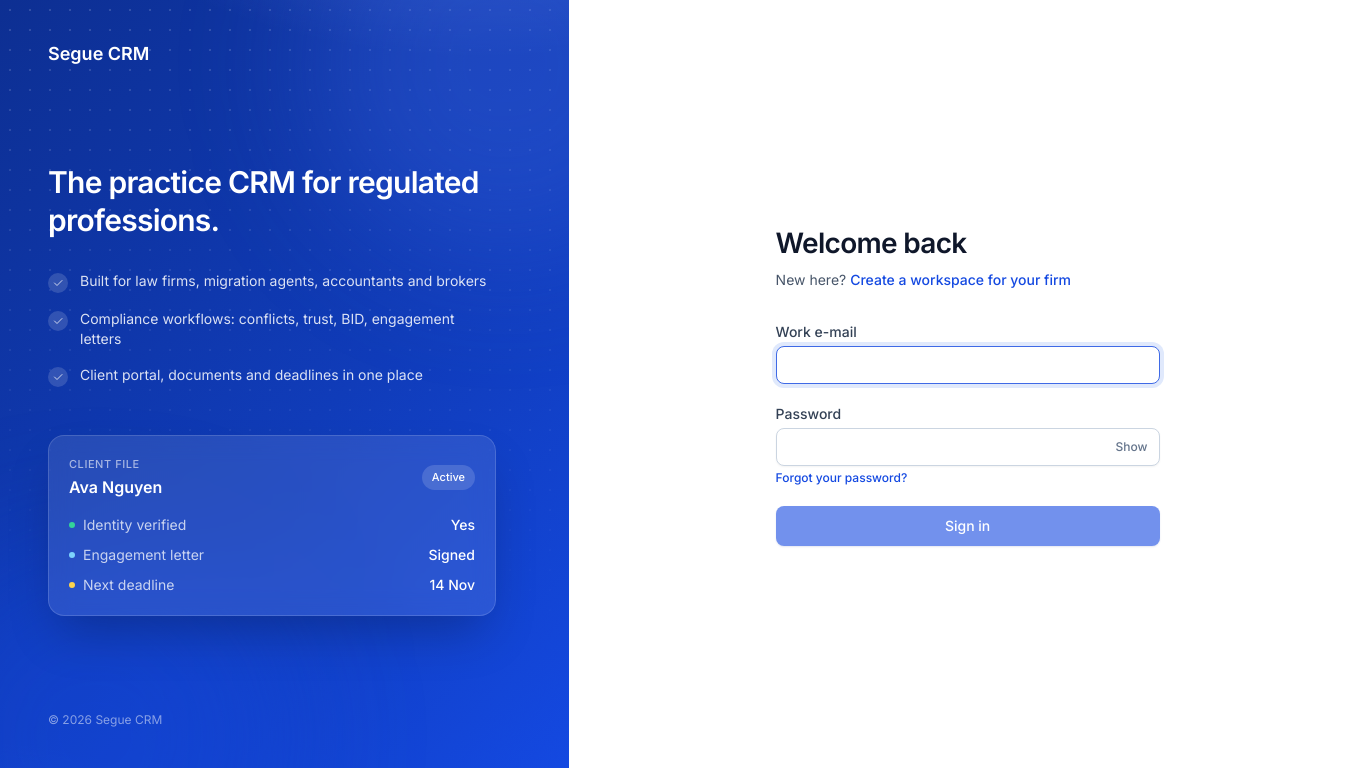
login flow › shows the server error for bad credentials
This screenshot has width=1366, height=768.
Type "admin@demo.example.com" into the field labelled "Work e-mail".
click(968, 365); type("admin@demo.example.com")  # box [776,346,1160,384]
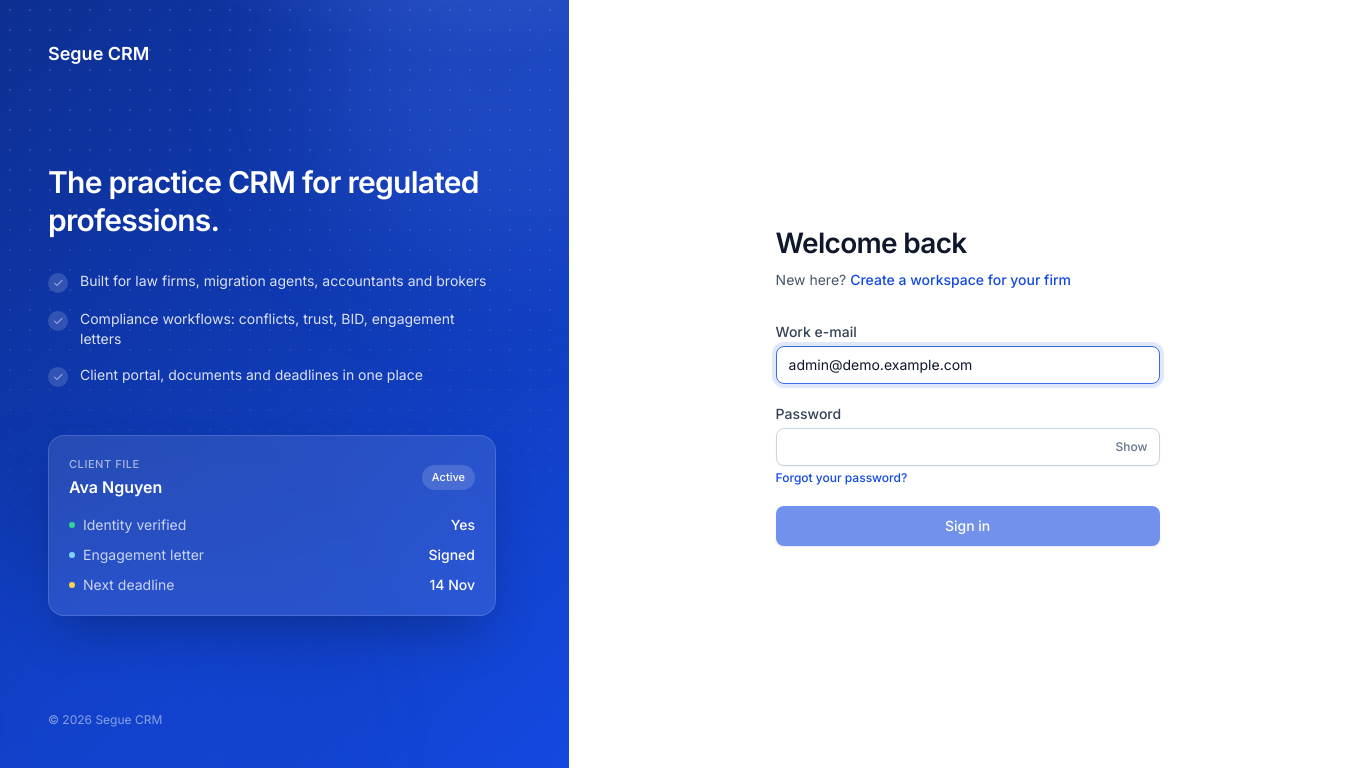
Type "Demo-Password-2026!" into the password field labelled "Password".
click(968, 447); type("Demo-Password-2026!")  # box [776,428,1160,466]
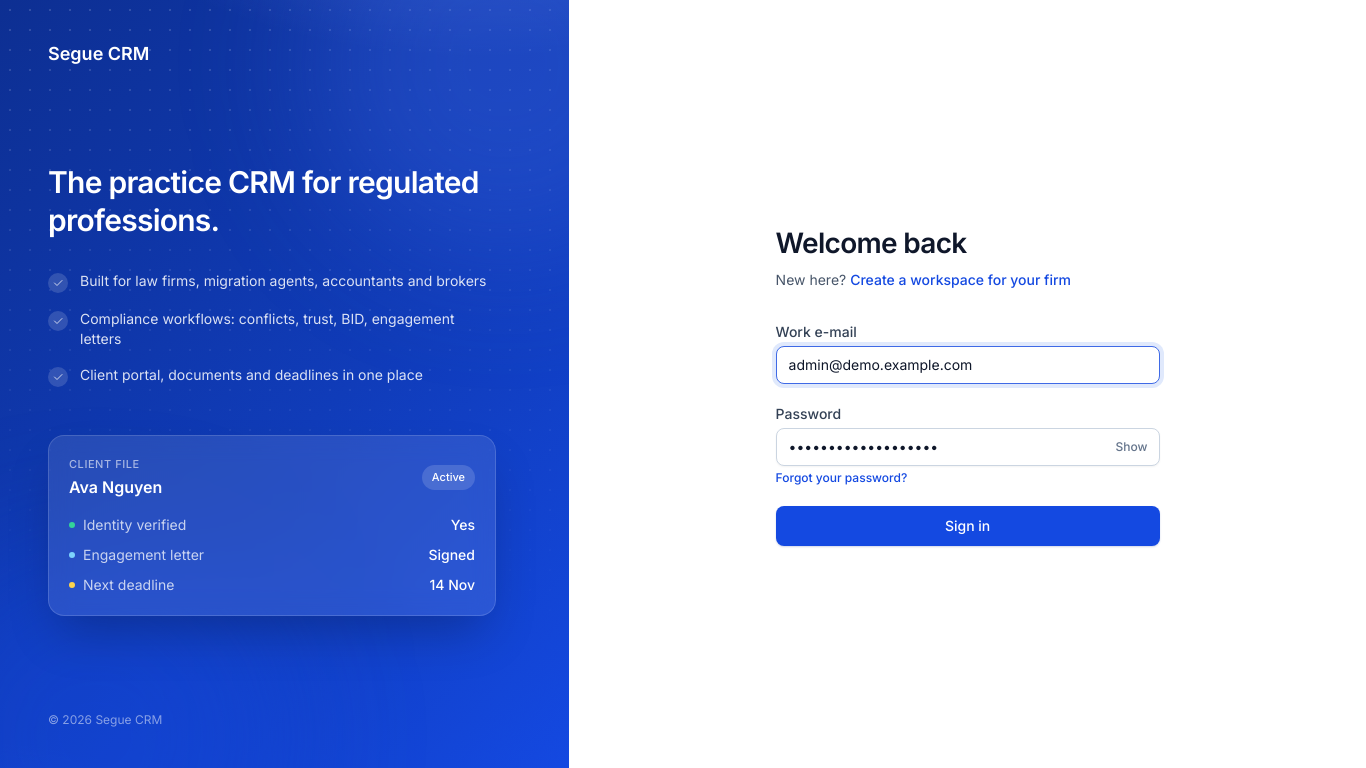
Click the button "Sign in".
click(968, 526)  # box [776,506,1160,546]
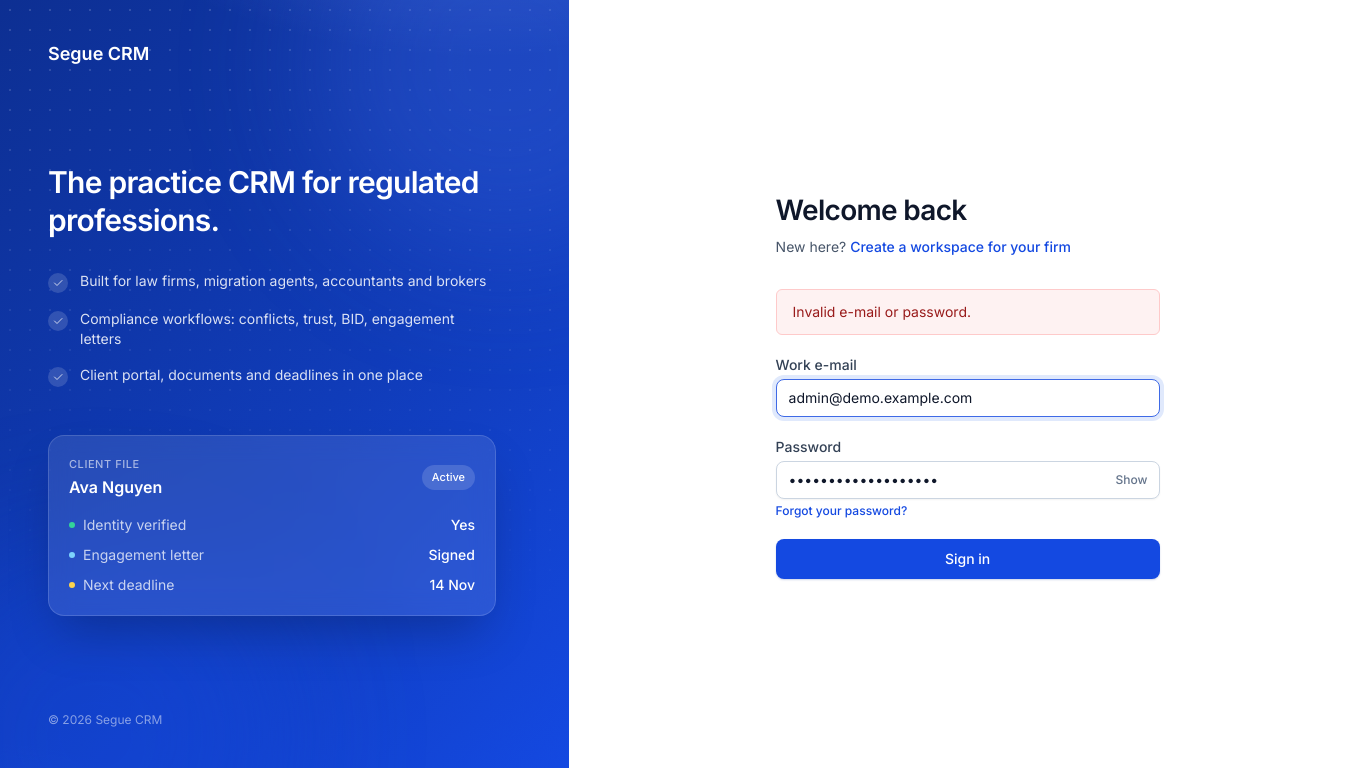
Result: the message reads "Invalid e-mail or password." at [793,303,971,320]
